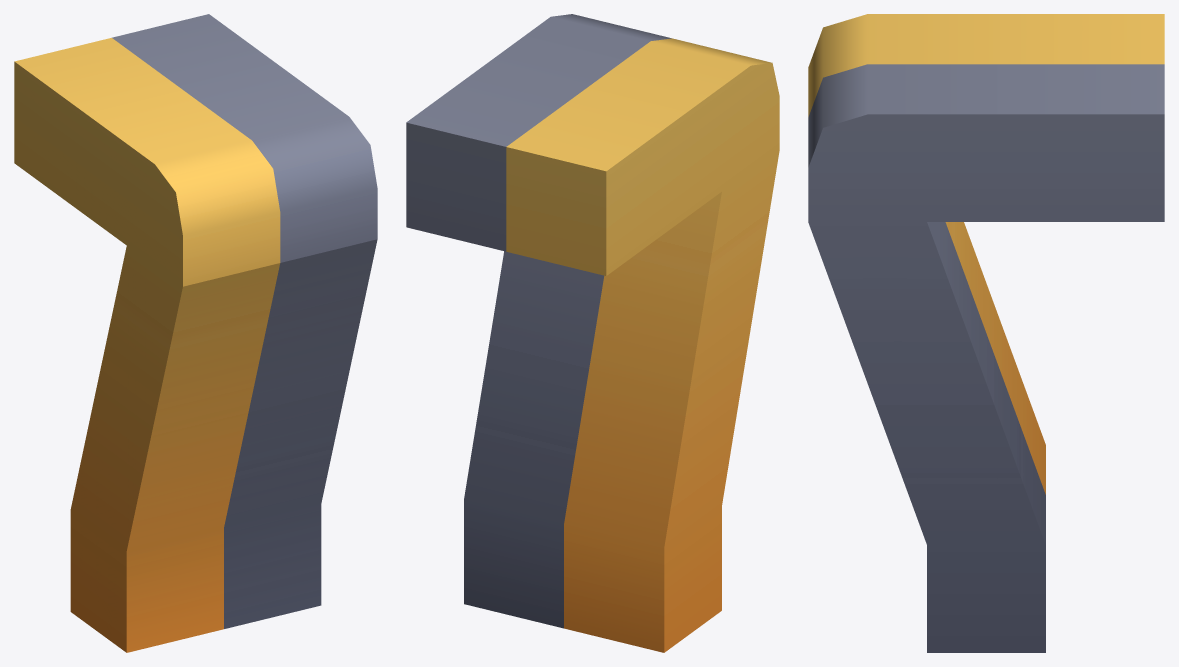
File: number-double-7.glb
3 views of the same model, side by side, from view 1: azimuth 30°, elevation 25°; view 2: azimuth 150°, elevation 25°; view 3: azimuth 270°, elevation 25° (orthographic). The views are drawn at different scales.
Parts seen in each view (by area): view 1: number-double-7; view 2: number-double-7; view 3: number-double-7.
Boxes of the visible parts, x1,y1,x2,y2 form: number-double-7: (14,14,377,652); number-double-7: (406,14,779,652); number-double-7: (808,14,1164,652).
Bounding box in the file's own units: 0.2 × 0.5 × 0.3.
Materials: 1 (1 with a texture image).
